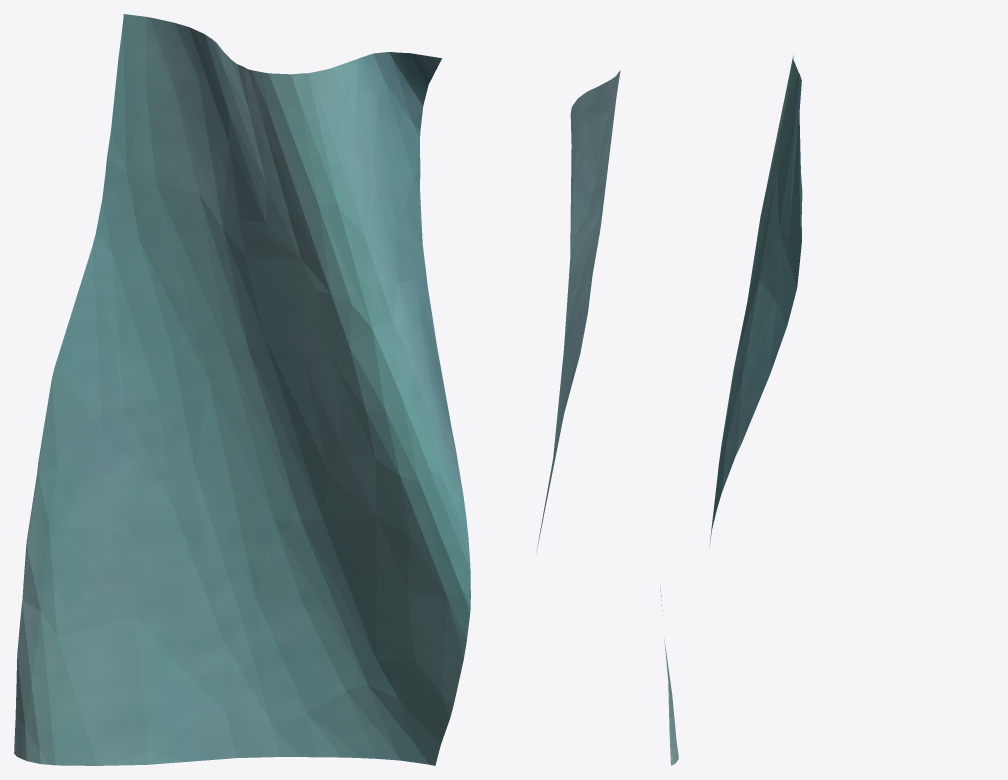
3 renders of one model, left to right at view 1: azimuth 30°, elevation 25°; view 2: azimuth 150°, elevation 25°; view 3: azimuth 270°, elevation 25°, orthographic. The views are drawn at different scales.
Bounding box in the file's own units: 38.32 × 85.74 × 33.5.
1 material, 1 textured.
